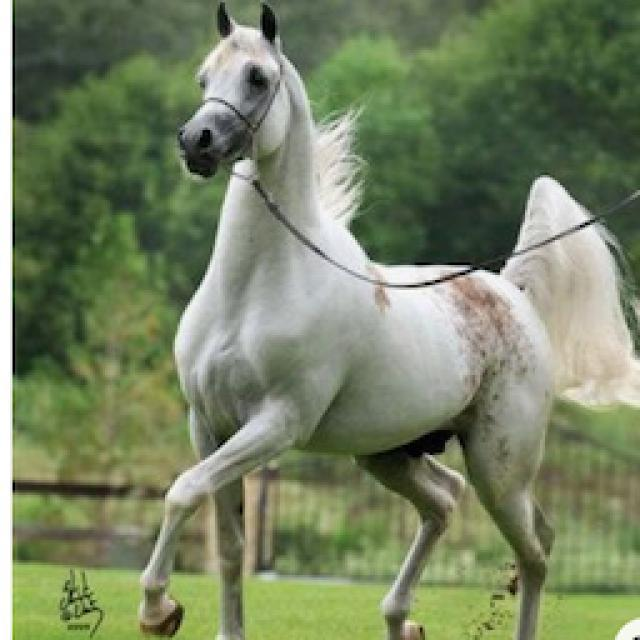Horse: (128, 0, 638, 638)
